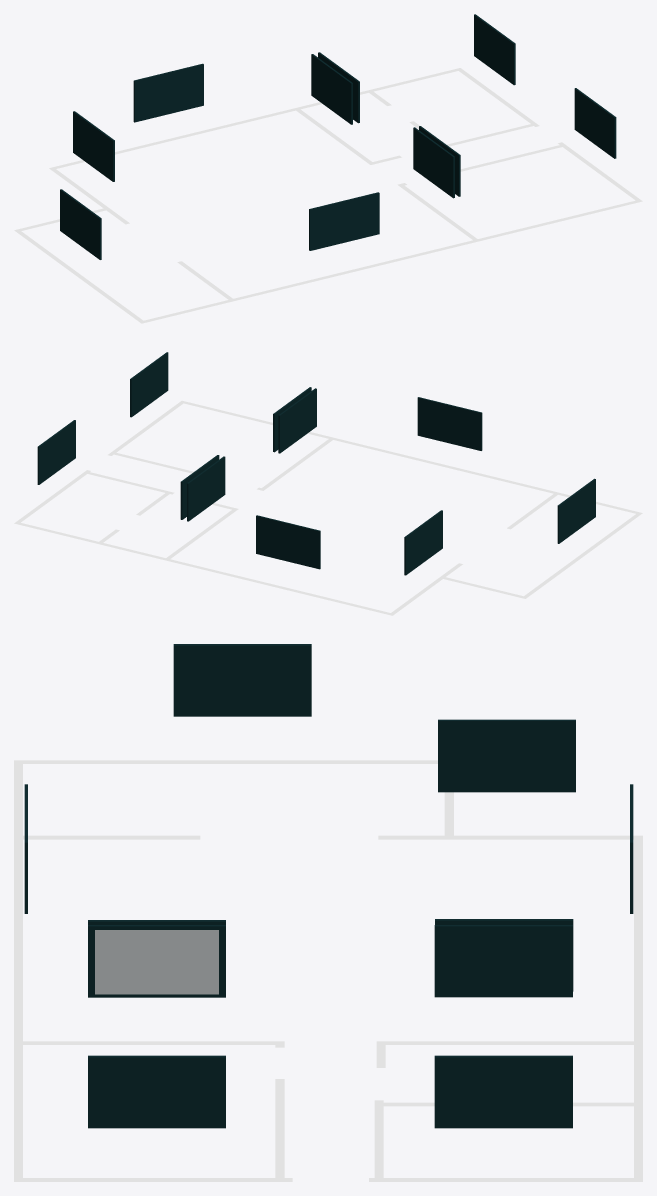
The picture shows the model from 3 angles, top to bottom: view 1: azimuth 30°, elevation 25°; view 2: azimuth 150°, elevation 25°; view 3: azimuth 270°, elevation 25°; orthographic projection. The views are drawn at different scales.
Visible parts, largest first — view 1: Curve, Cube.009, Cube.004, Cube.008, Cube.001, Cube.005, Cube, Cube.002, Cube.010, Cube.003, Cube.007; view 2: Curve, Cube.009, Cube.004, Cube.002, Cube.001, Cube.008, Cube, Cube.005, Cube.010, Cube.003, Cube.007; view 3: Curve, Cube.005, Cube.002, Cube.008, Cube.010, Cube.003, Cube.007, Cube.011, Cube.
Part boxes in pixels (bbox=[...]): Curve: bbox=[14, 68, 642, 323]; Cube.009: bbox=[309, 192, 379, 250]; Cube.004: bbox=[133, 63, 203, 122]; Cube.008: bbox=[574, 88, 616, 158]; Cube.001: bbox=[413, 127, 454, 198]; Cube.005: bbox=[474, 14, 515, 85]; Cube: bbox=[311, 54, 352, 124]; Cube.002: bbox=[73, 111, 114, 181]; Cube.010: bbox=[60, 189, 101, 259]; Cube.003: bbox=[318, 52, 359, 123]; Cube.007: bbox=[419, 126, 460, 196]; Curve: bbox=[14, 400, 642, 615]; Cube.009: bbox=[417, 397, 482, 450]; Cube.004: bbox=[256, 515, 320, 569]; Cube.002: bbox=[404, 510, 442, 575]; Cube.001: bbox=[278, 388, 316, 453]; Cube.008: bbox=[130, 352, 168, 417]; Cube: bbox=[187, 456, 225, 521]; Cube.005: bbox=[37, 420, 75, 484]; Cube.010: bbox=[557, 478, 595, 543]; Cube.003: bbox=[180, 455, 219, 519]; Cube.007: bbox=[273, 387, 311, 452]; Curve: bbox=[14, 760, 642, 1181]; Cube.005: bbox=[434, 1055, 572, 1128]; Cube.002: bbox=[438, 719, 575, 792]; Cube.008: bbox=[88, 1055, 225, 1128]; Cube.010: bbox=[173, 644, 311, 716]; Cube.003: bbox=[434, 925, 572, 997]; Cube.007: bbox=[88, 925, 225, 997]; Cube.011: bbox=[95, 930, 218, 994]; Cube: bbox=[435, 919, 573, 991].
Bounding box in the file's own units: 7.41 × 0.9861 × 4.68.
